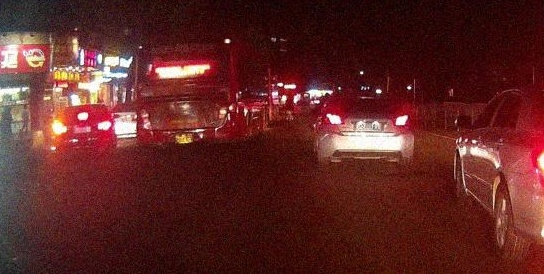L_light: (324, 113, 344, 124), (141, 110, 151, 129), (55, 125, 67, 132)
R_light: (224, 104, 234, 126), (393, 115, 410, 126), (98, 121, 111, 130)
T_light: (360, 94, 375, 100), (174, 44, 188, 49), (78, 113, 88, 119)
night-left: (55, 104, 113, 156)
night-no: (136, 39, 237, 148), (318, 92, 414, 168)
